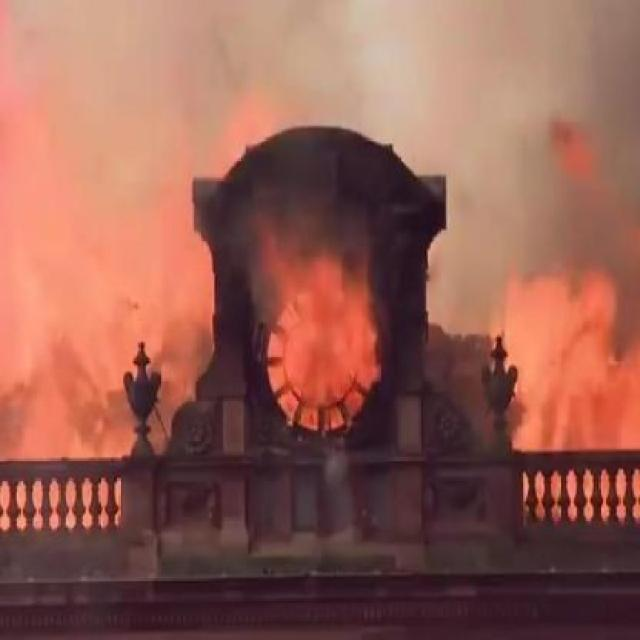Fire: (224, 196, 407, 442), (490, 222, 640, 519), (530, 94, 608, 188)
Smoke: (5, 7, 633, 276)
